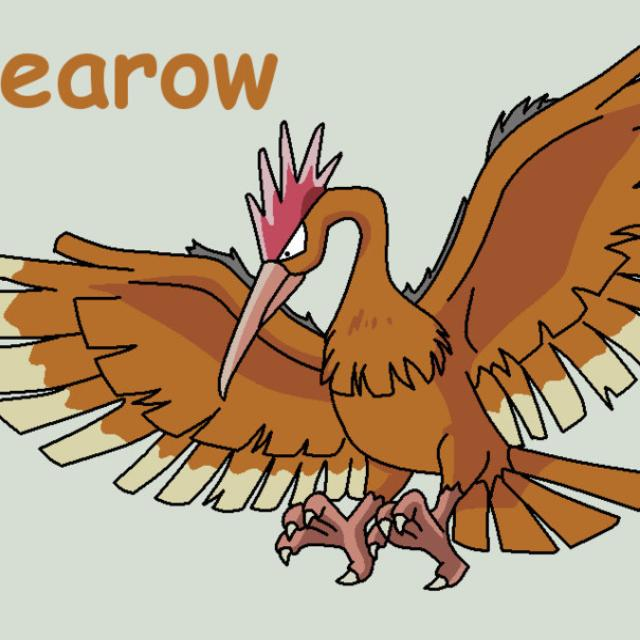Fearow: (88, 155, 617, 552)
